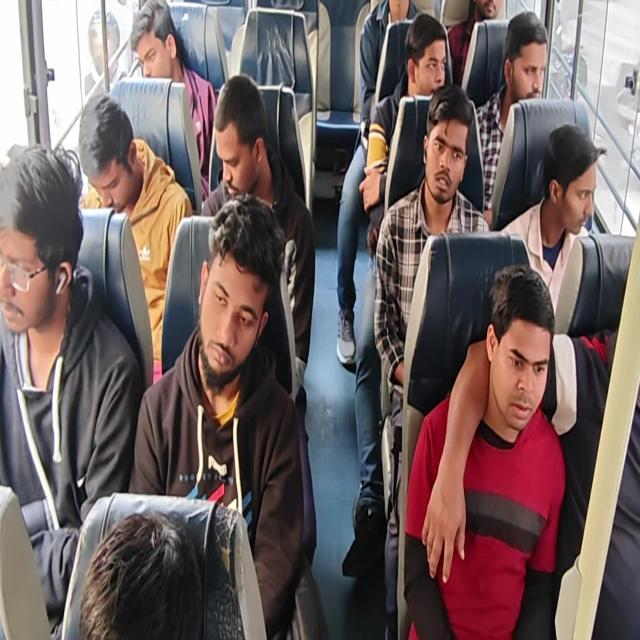person: (1, 1, 636, 638), (435, 124, 632, 634), (128, 193, 305, 638), (0, 142, 142, 638), (373, 83, 491, 637), (340, 10, 450, 576), (403, 263, 566, 638), (199, 73, 317, 568), (78, 93, 193, 385), (335, 0, 421, 366), (359, 12, 450, 260), (499, 122, 607, 328), (129, 0, 218, 200), (469, 11, 549, 223), (78, 509, 204, 639), (358, 0, 421, 155), (446, 0, 502, 87), (82, 9, 126, 98)
